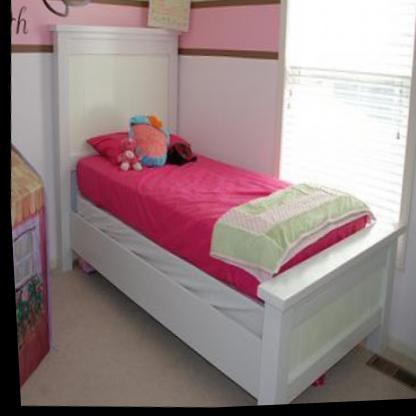Bed: (34, 10, 416, 415)
